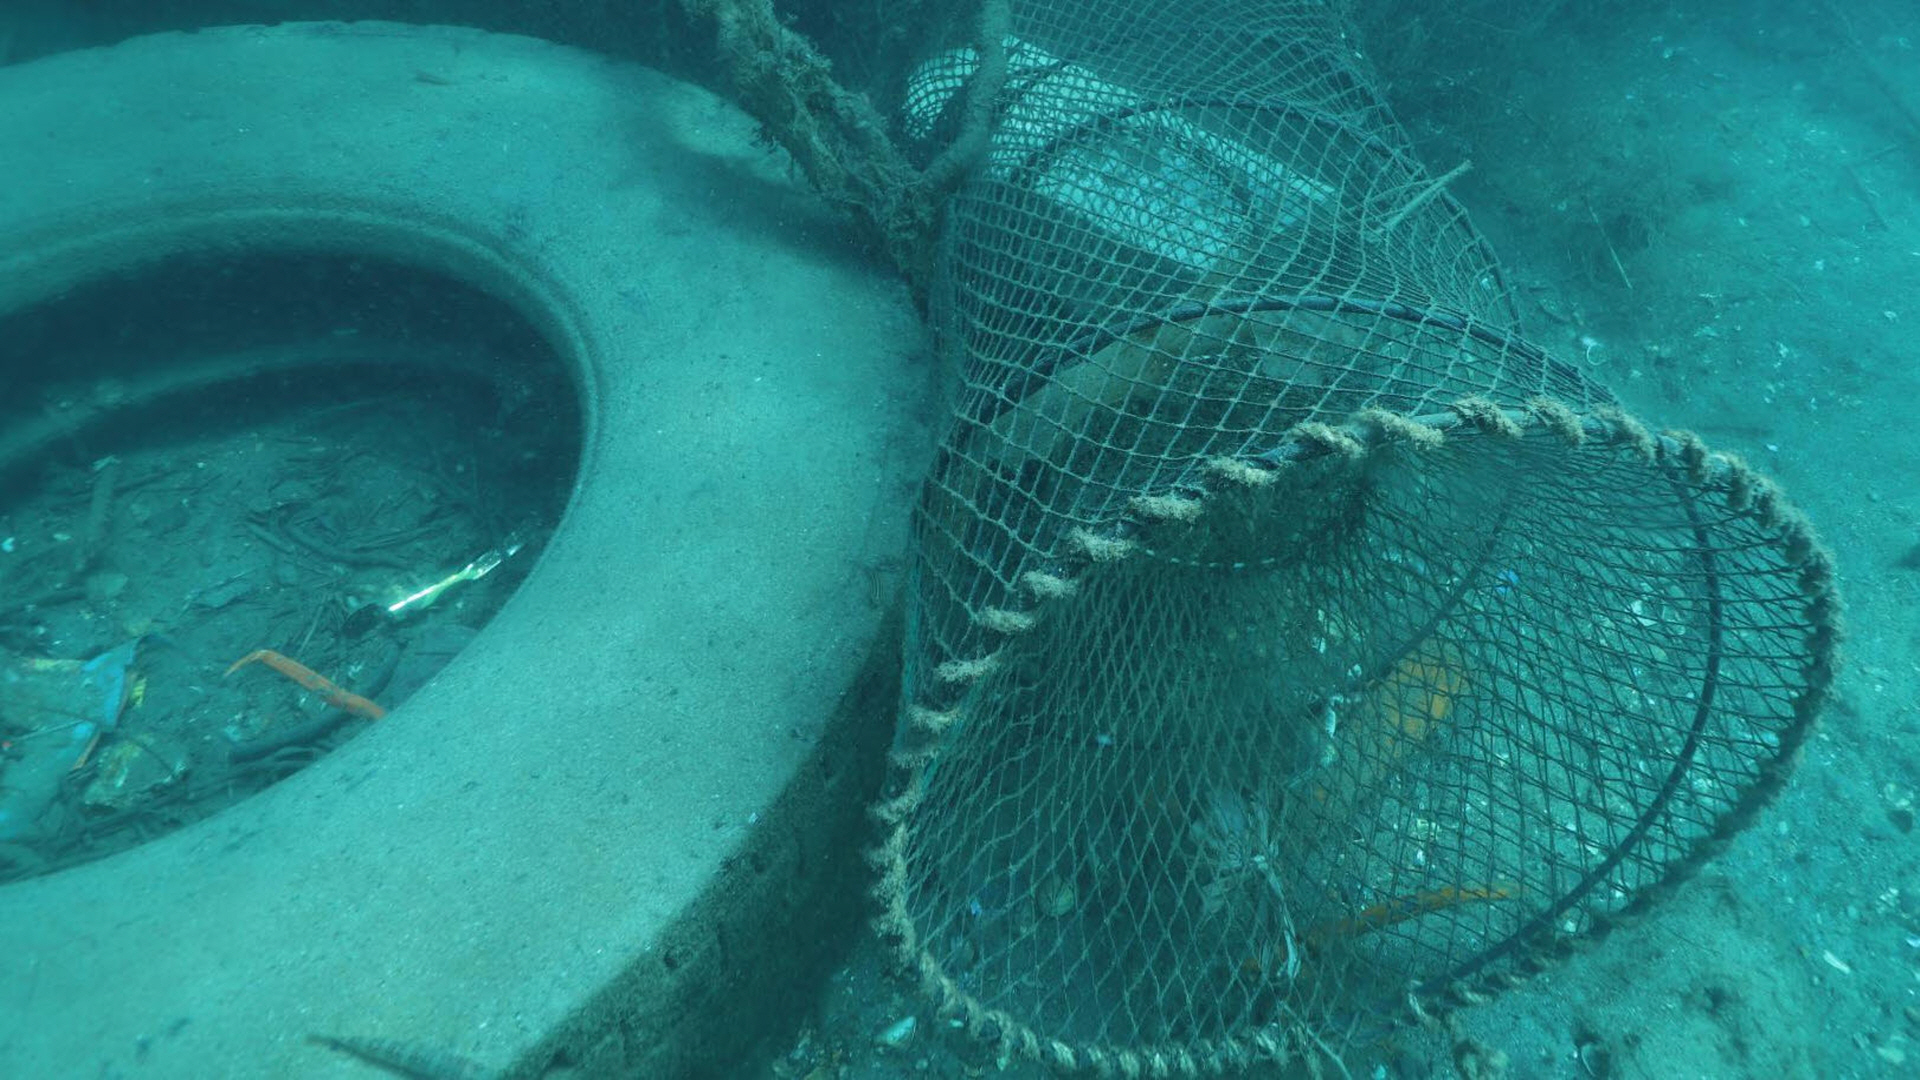spring fish trap: (866, 0, 1840, 1080)
tire: (0, 18, 939, 1080)
